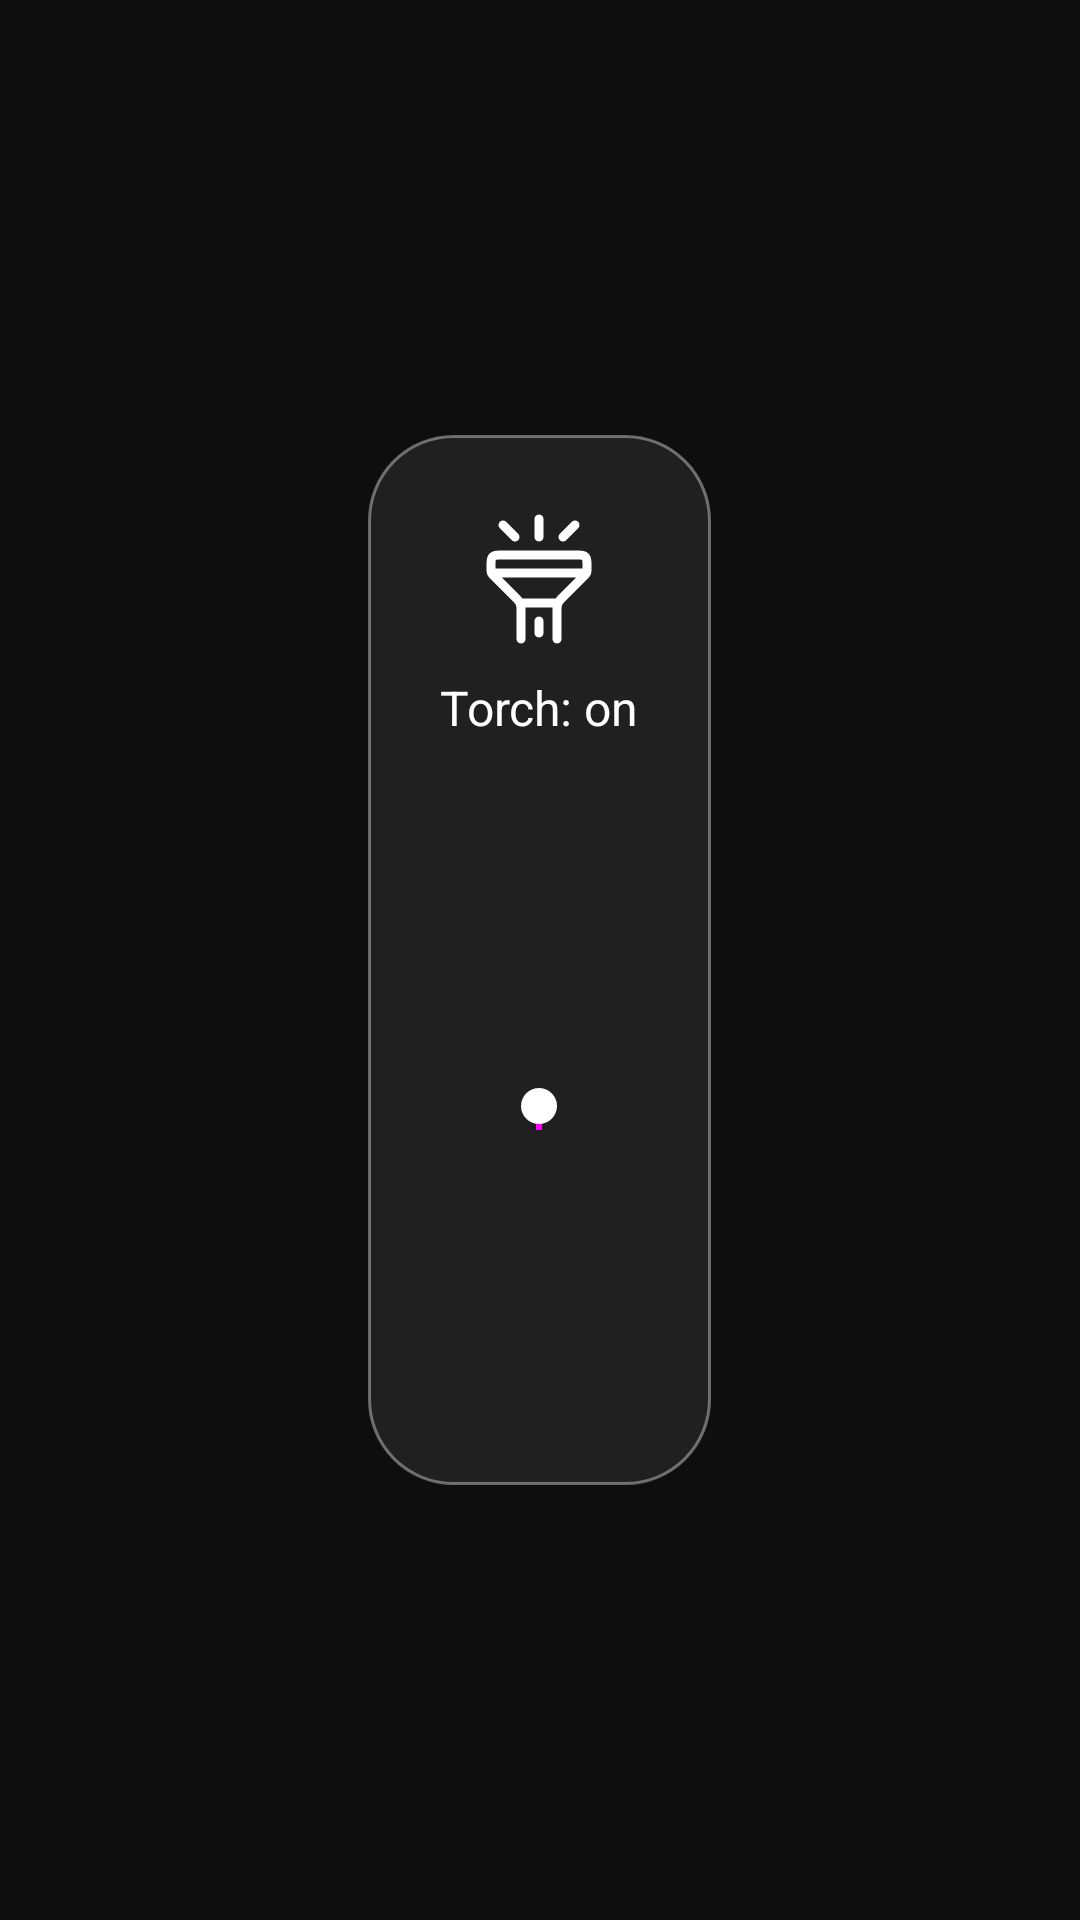

Icon click points for this 1080w x 1920h phone screenshot, format (x,y):
flashlight: (539,579)
